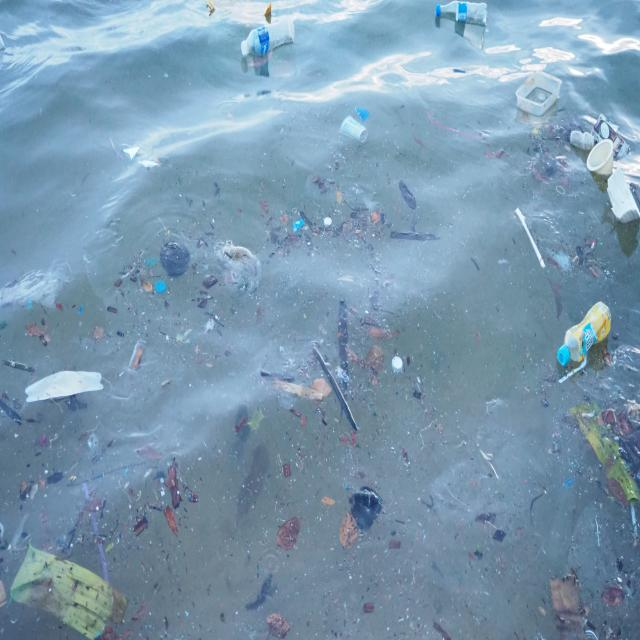foam: (605, 172, 640, 225)
plastic: (558, 301, 613, 373), (239, 16, 296, 63), (430, 0, 489, 21), (568, 129, 594, 148)
plastic bottle: (516, 200, 548, 271), (513, 68, 562, 108), (336, 111, 372, 153), (580, 141, 615, 173)
unknow: (310, 344, 360, 432), (216, 237, 274, 294), (24, 366, 104, 399), (348, 482, 387, 539), (594, 105, 628, 158), (158, 236, 189, 276)
